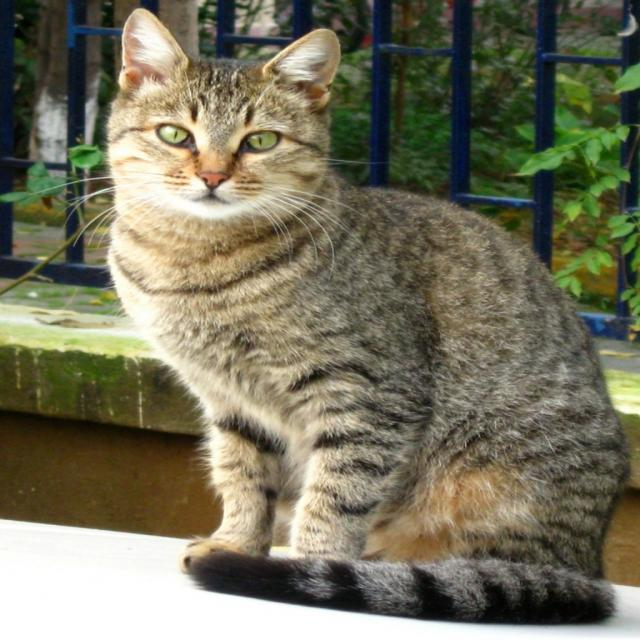Cat: (27, 7, 628, 626)
